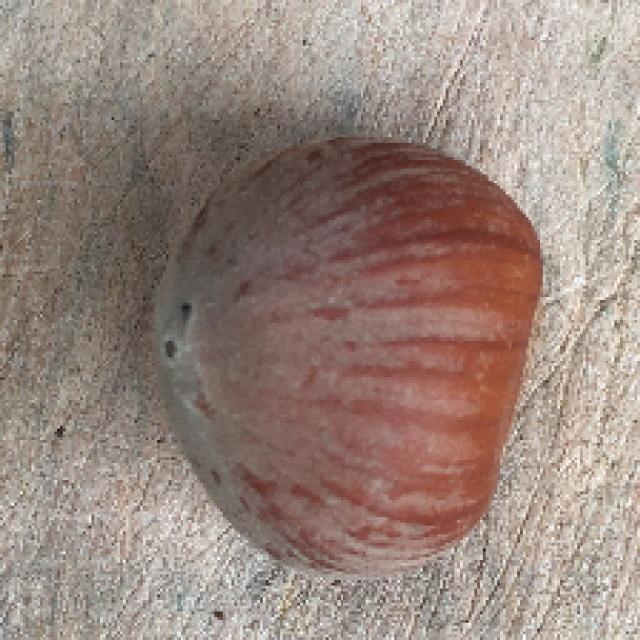QualityHazelnut: (139, 133, 545, 583)
